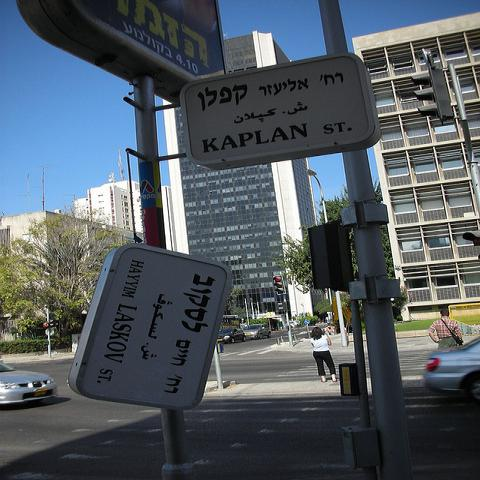car: (421, 337, 479, 404), (0, 358, 64, 407), (218, 328, 246, 344), (243, 324, 271, 339)
